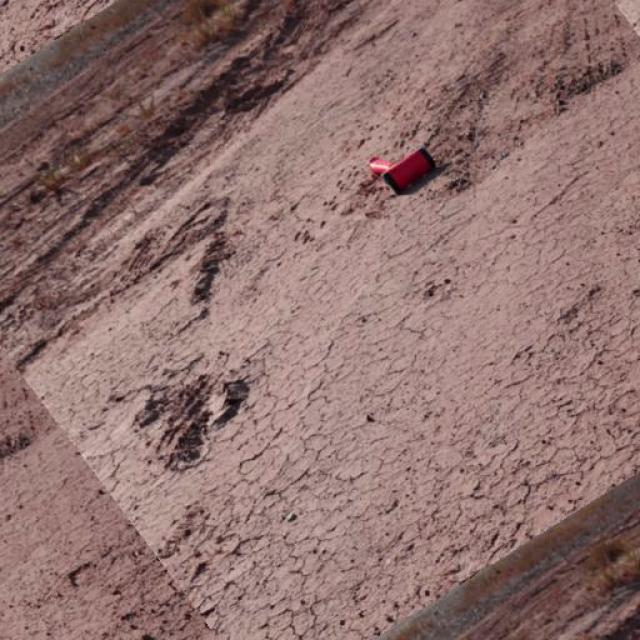mallet: (367, 145, 435, 194)
